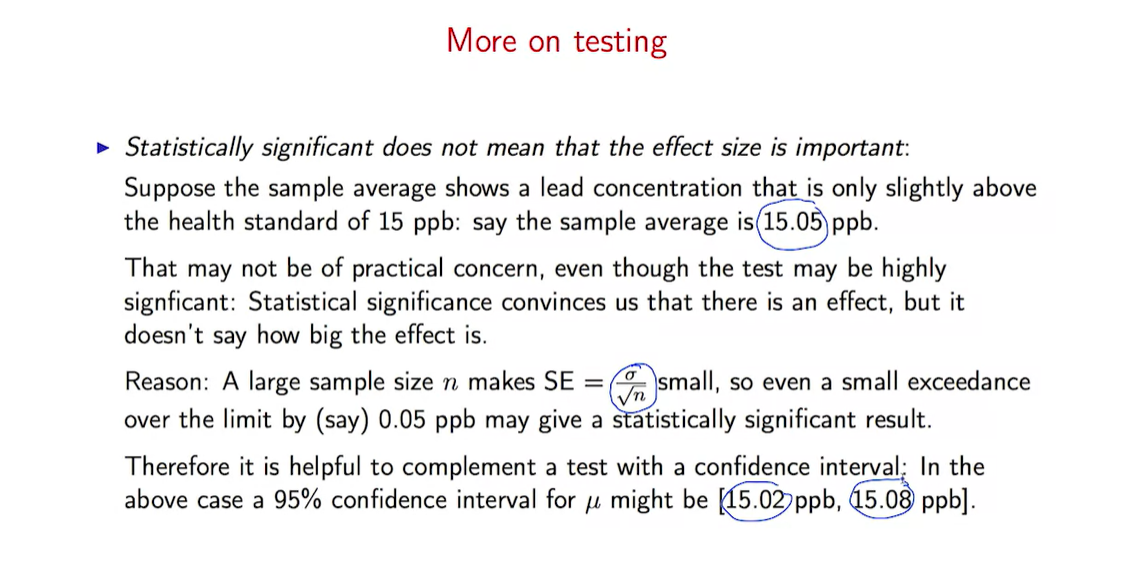equation: (541, 365, 656, 410)
text: (122, 253, 968, 351), (125, 364, 1033, 448), (121, 173, 1042, 243), (123, 455, 996, 525), (122, 133, 915, 162), (441, 23, 674, 67)
